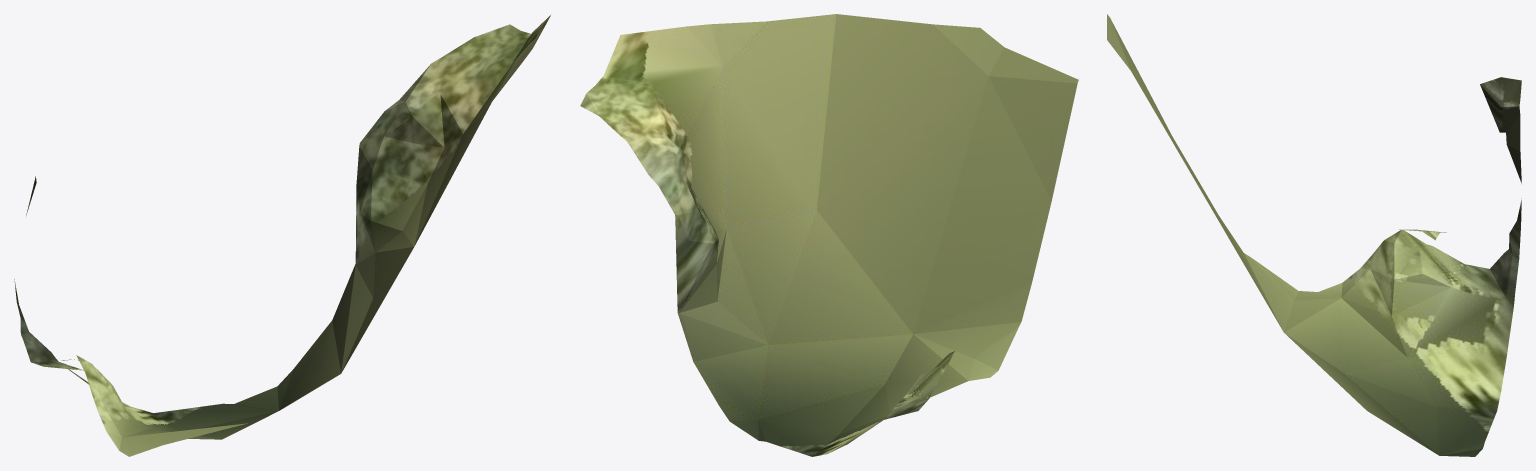
3 views of the same model, side by side, from view 1: azimuth 30°, elevation 25°; view 2: azimuth 150°, elevation 25°; view 3: azimuth 270°, elevation 25° (orthographic). The views are drawn at different scales.
Size of the model in its own units: 5.9 by 4.89 by 4.92.
3 materials, 3 textured.
